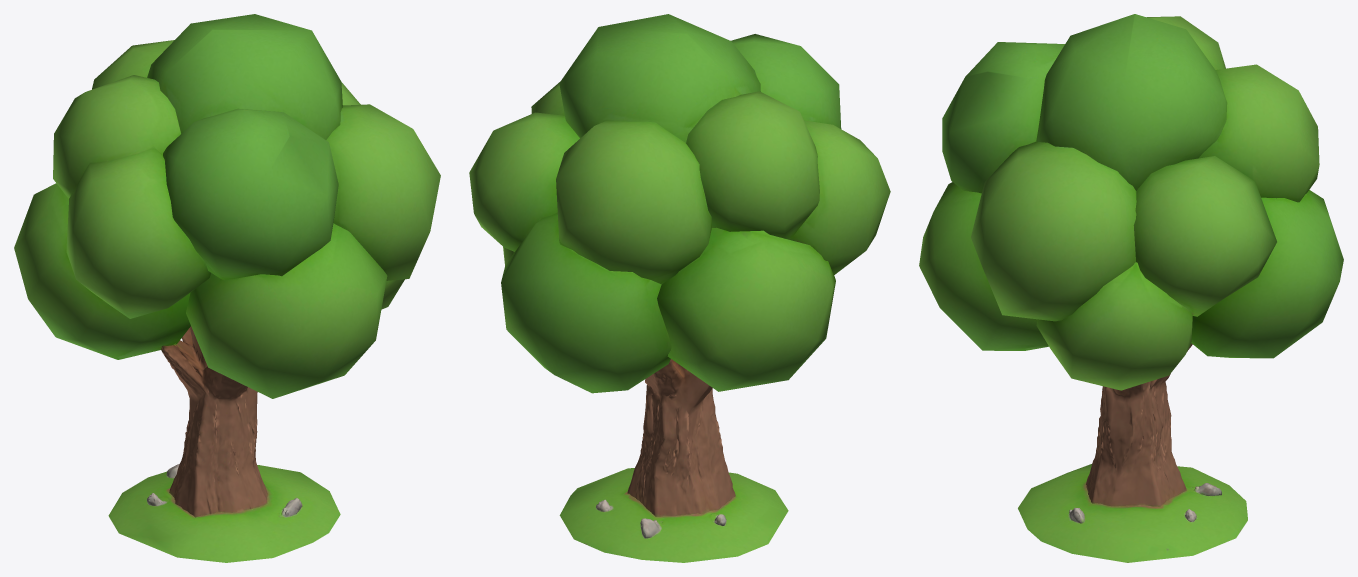
The picture shows the model from 3 angles, left to right: view 1: azimuth 30°, elevation 25°; view 2: azimuth 150°, elevation 25°; view 3: azimuth 270°, elevation 25°; orthographic projection.
Visible parts, largest first — view 1: tripo_node_31688310-3e73-4a2f-9df1-1c8d3576cf33; view 2: tripo_node_31688310-3e73-4a2f-9df1-1c8d3576cf33; view 3: tripo_node_31688310-3e73-4a2f-9df1-1c8d3576cf33.
Boxes of the visible parts, x1,y1,x2,y2 form: tripo_node_31688310-3e73-4a2f-9df1-1c8d3576cf33: (14, 14, 440, 562); tripo_node_31688310-3e73-4a2f-9df1-1c8d3576cf33: (469, 14, 890, 562); tripo_node_31688310-3e73-4a2f-9df1-1c8d3576cf33: (919, 14, 1343, 562).
Bounding box in the file's own units: 0.2224 × 0.3 × 0.2344.
Materials: 1 (1 with a texture image).
